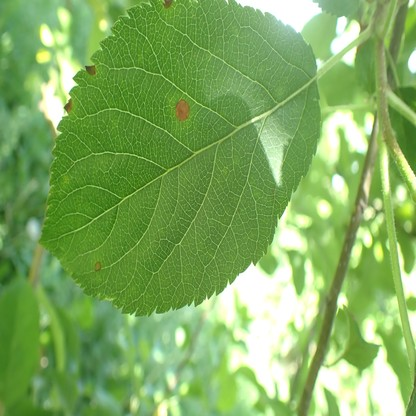frogeye_leaf_spot: (175, 98, 190, 122), (84, 64, 97, 75), (64, 97, 73, 112), (162, 0, 172, 7), (94, 261, 101, 271)
